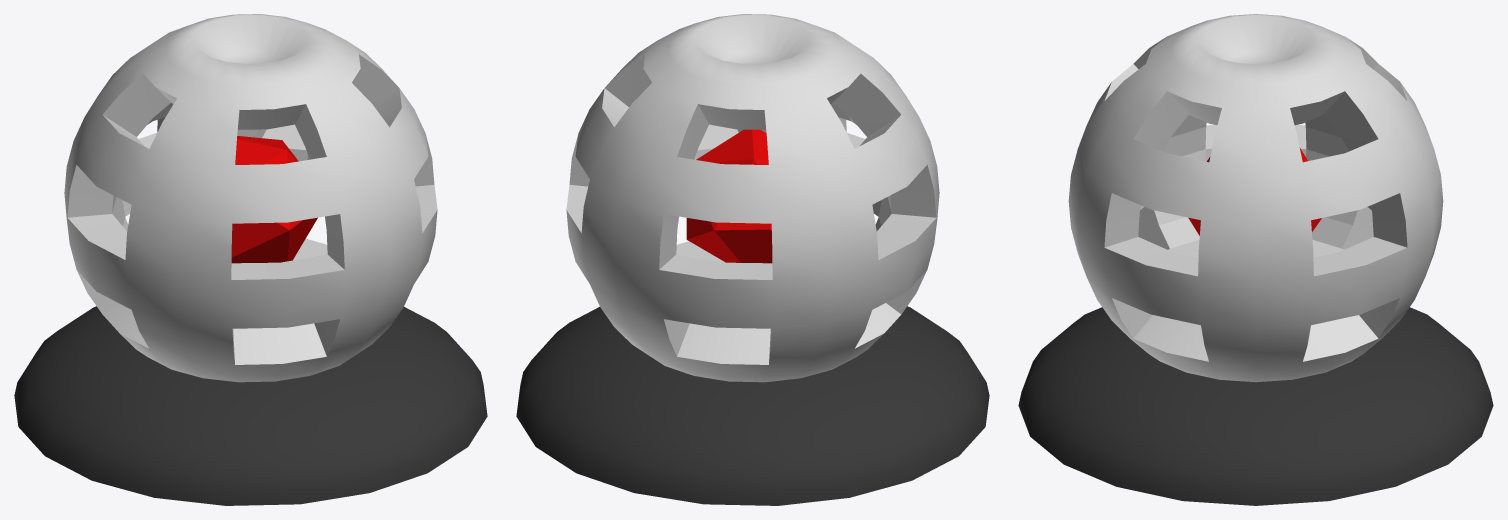
The model's file is EnemyTurret_Maya.fbx.
3 renders of one model, left to right at view 1: azimuth 30°, elevation 25°; view 2: azimuth 150°, elevation 25°; view 3: azimuth 270°, elevation 25°, orthographic.
Visible parts, largest first — view 1: pSphere3; view 2: pSphere3; view 3: pSphere3.
Part boxes in pixels (x1,y1,x2,y2): pSphere3: [14, 14, 487, 505]; pSphere3: [516, 14, 989, 505]; pSphere3: [1018, 14, 1493, 505].
Bounding box in the file's own units: 6.18 × 5.25 × 6.18.
